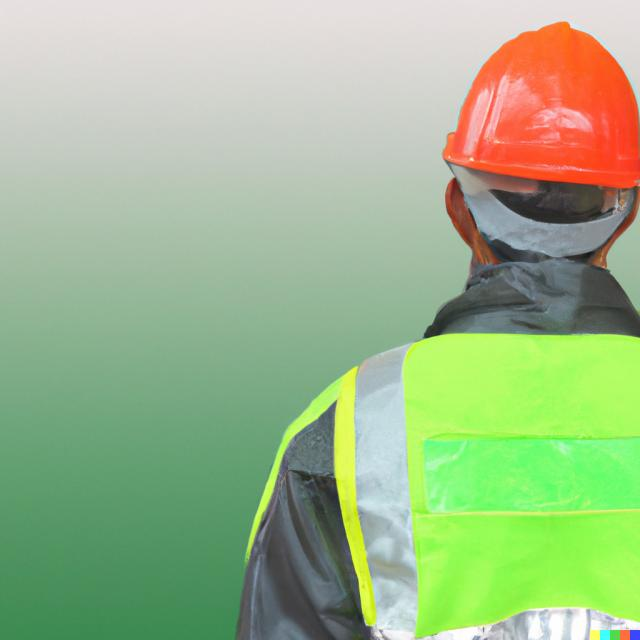Reflective-Jacket: (231, 281, 640, 638)
Safety-Helmet: (441, 24, 638, 188)
